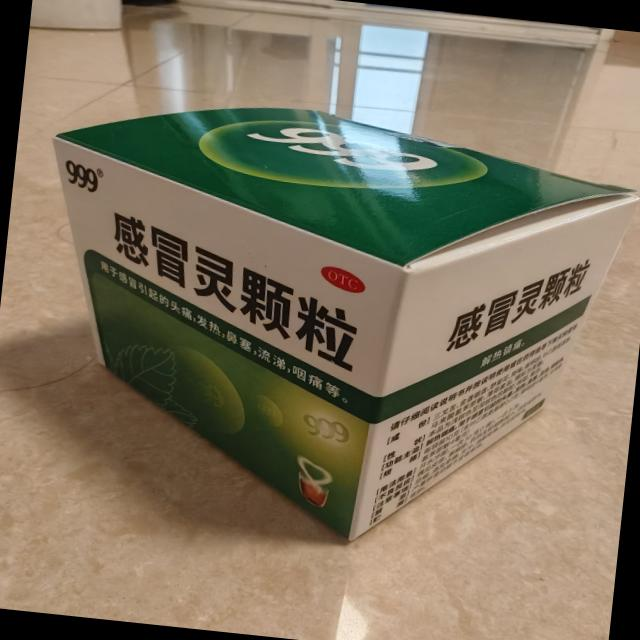box: (2, 75, 640, 580)
